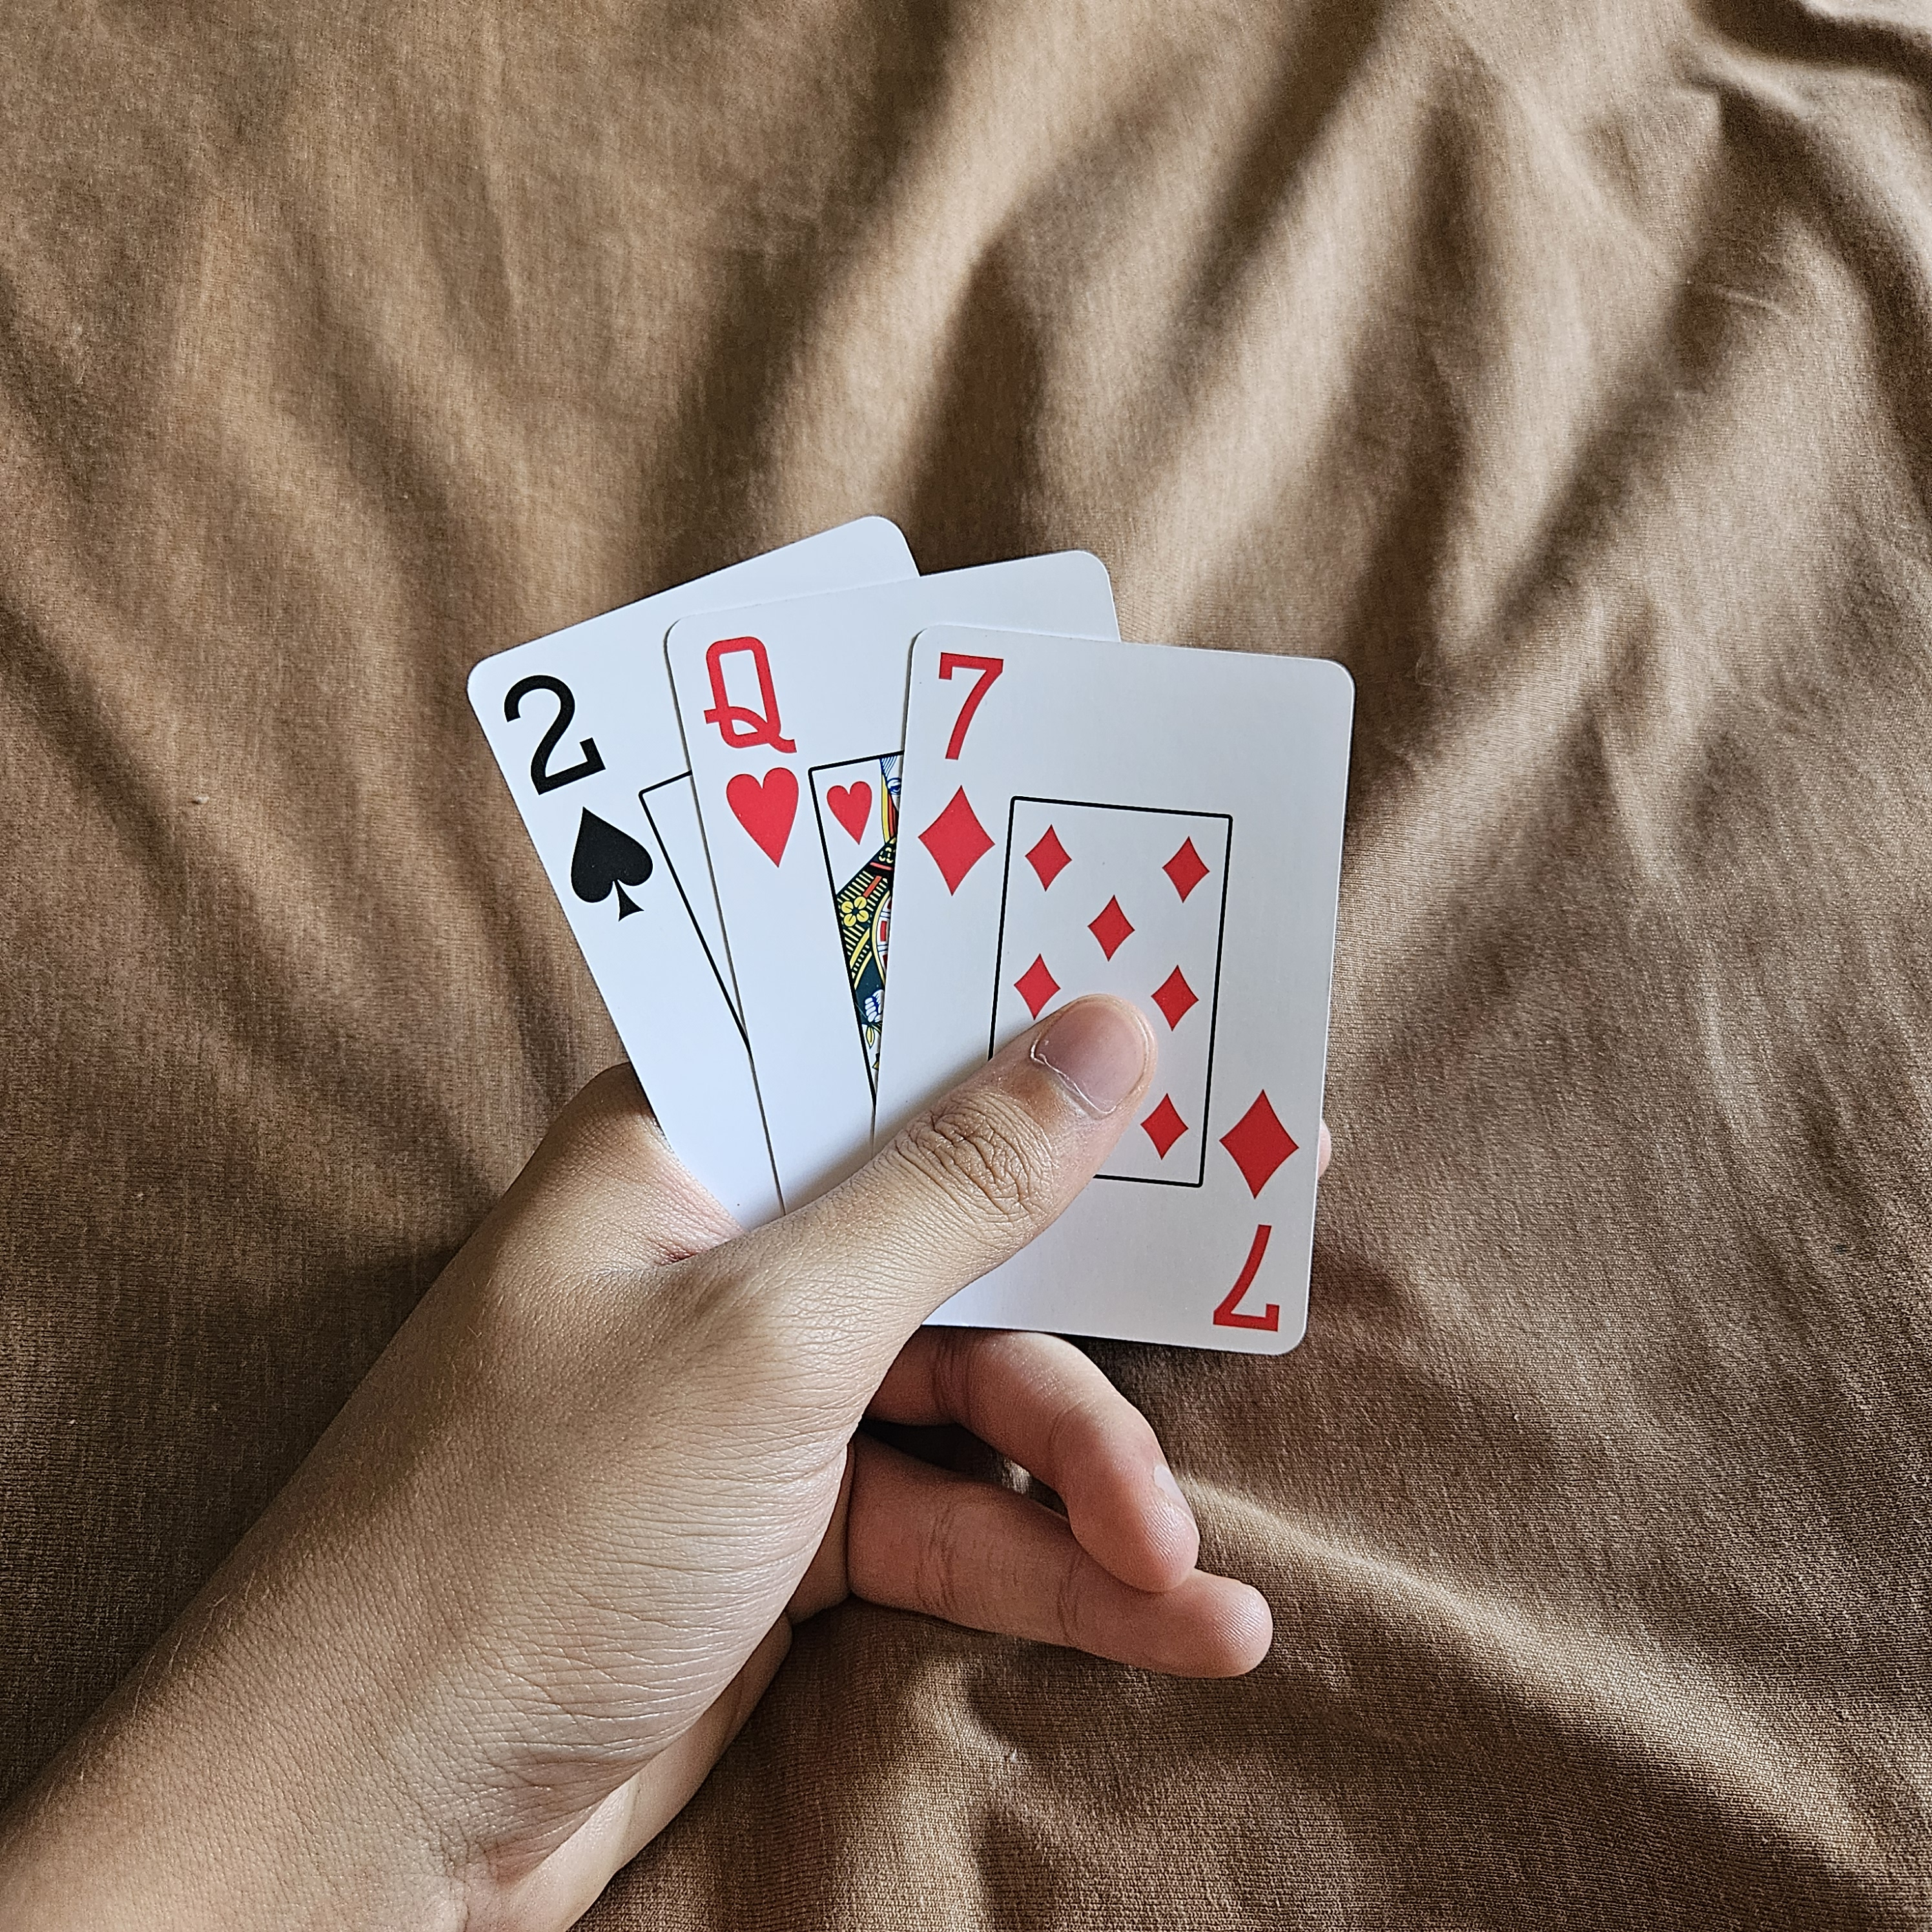2E: (488, 653, 669, 945)
7O: (1198, 1063, 1313, 1352), (901, 632, 1016, 916)
QC: (688, 616, 821, 886)
